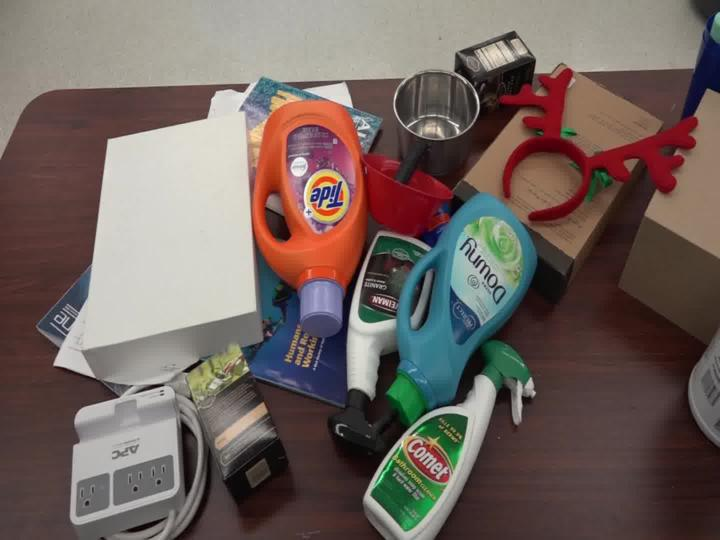tide: (232, 88, 379, 341)
